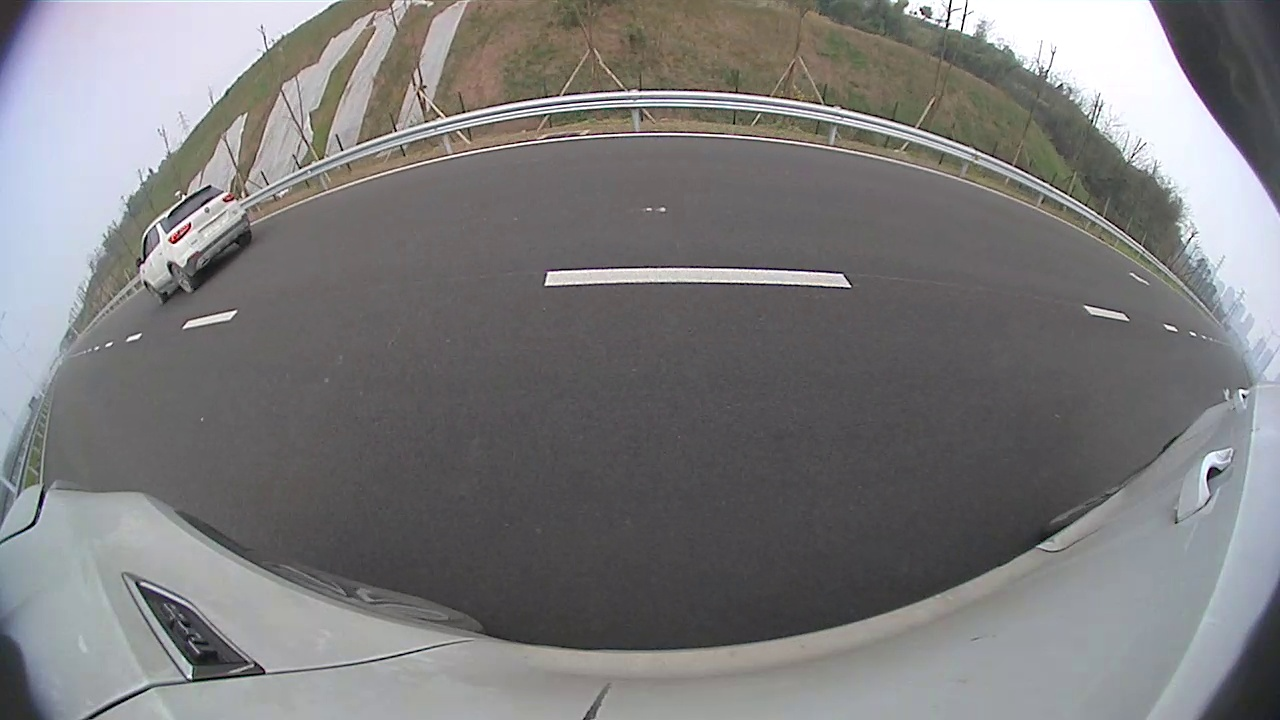car: (753, 140, 899, 225)
front: (755, 175, 770, 204)
rear: (800, 182, 824, 219)
